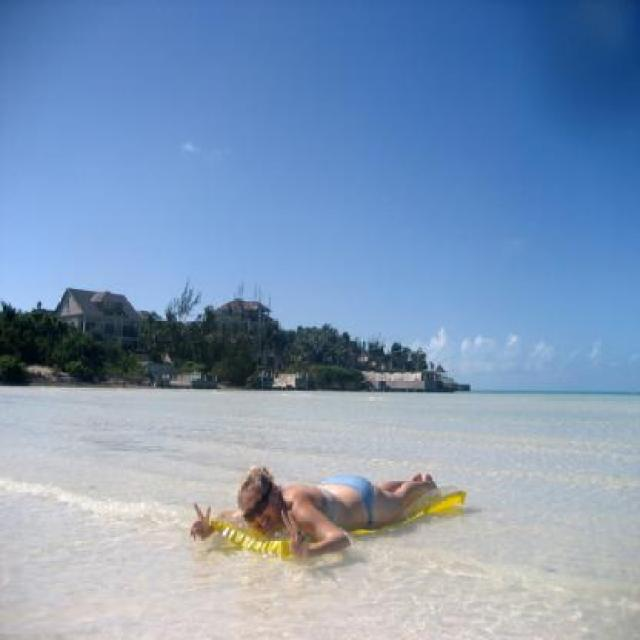Person: (203, 457, 452, 565)
